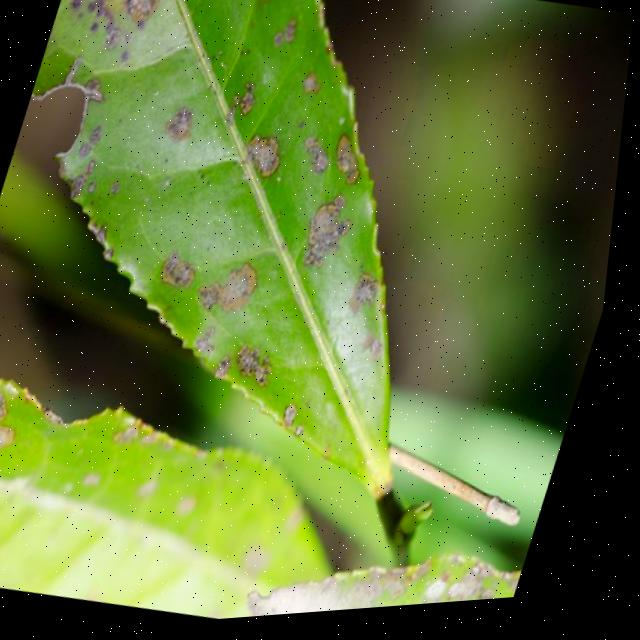Tea red rust: (0, 0, 522, 416)
